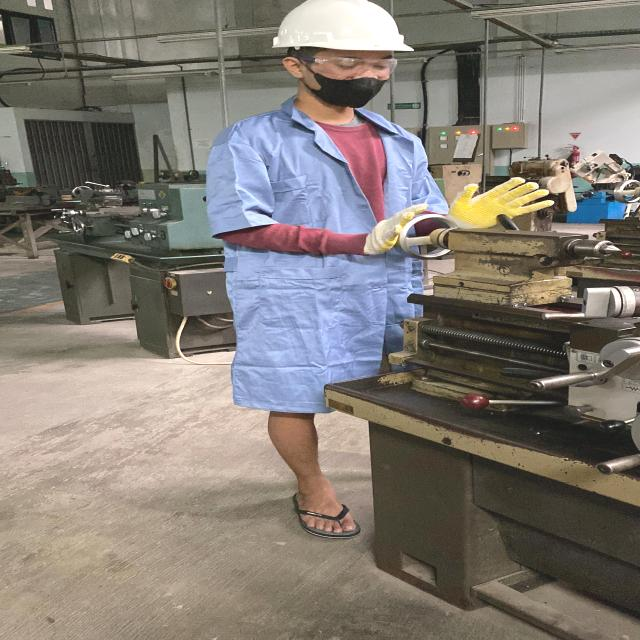face_mask: (302, 54, 399, 112)
glasses: (304, 56, 404, 78)
hand_glove: (433, 176, 560, 230), (356, 196, 436, 259)
head_helmet: (271, 0, 419, 53)
person: (192, 2, 550, 538)
